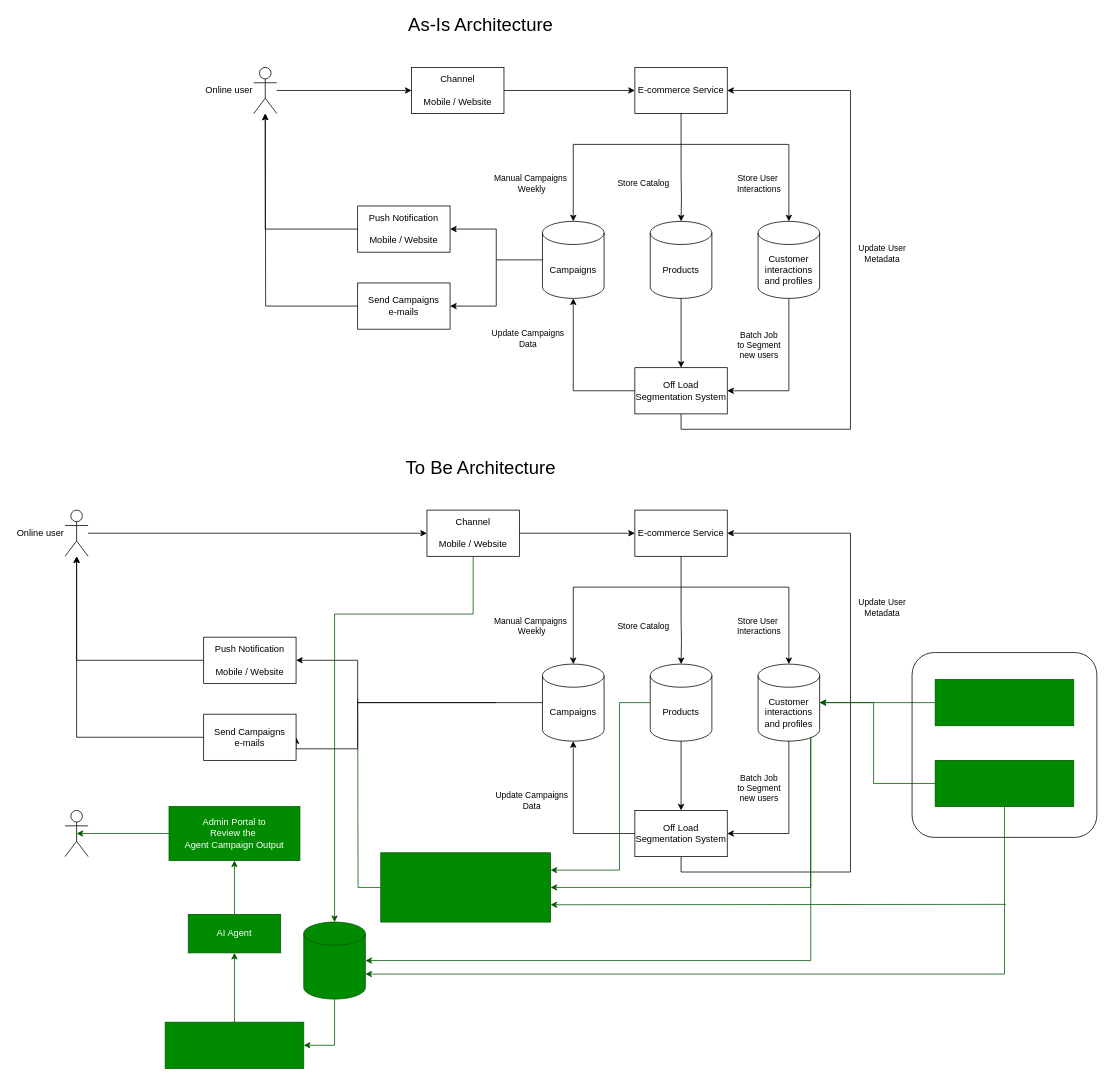
Some shapes in this 1110 by 1082 pixel diagram are drawn without their labels. The centre of each missing label's shape, as x and y in pixels:
"AI for security and guardrails" goes at [1004,702].
"Monitor User Drop Off Action" goes at [234,1044].
"PII Masking Service" goes at [1004,783].
"Recommendation Engine 1- User Personalization 2- Next Best Action" goes at [465,887].
"Sales Users" goes at [76,833].
"Website Analytics" goes at [334,960].
